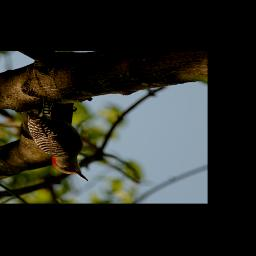Woodpecker: (27, 97, 89, 181)
